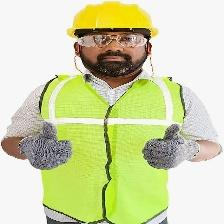Person: (3, 31, 222, 222)
helmet: (74, 7, 164, 33)
vest: (39, 73, 183, 224)
